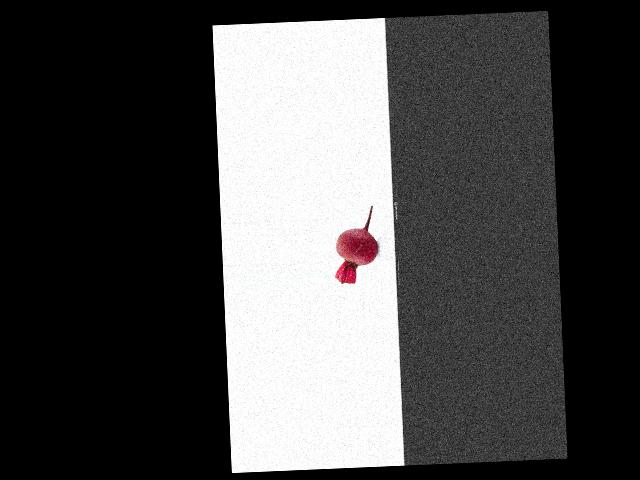beet: (332, 205, 379, 284)
